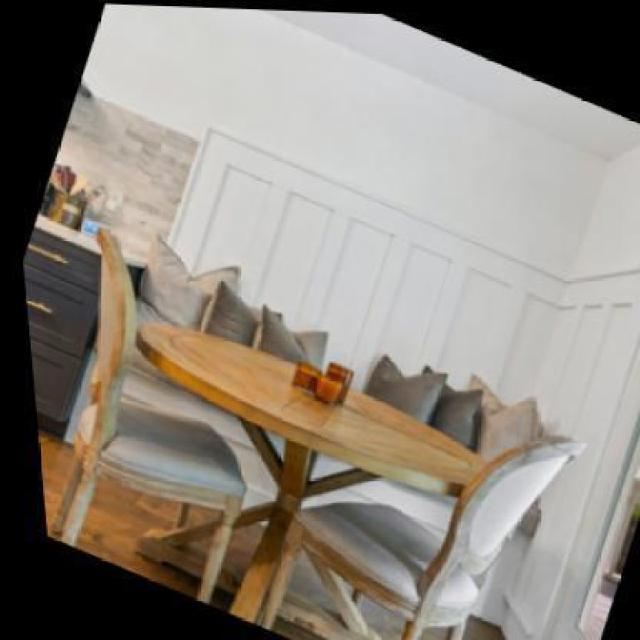tables: (134, 320, 488, 637)
